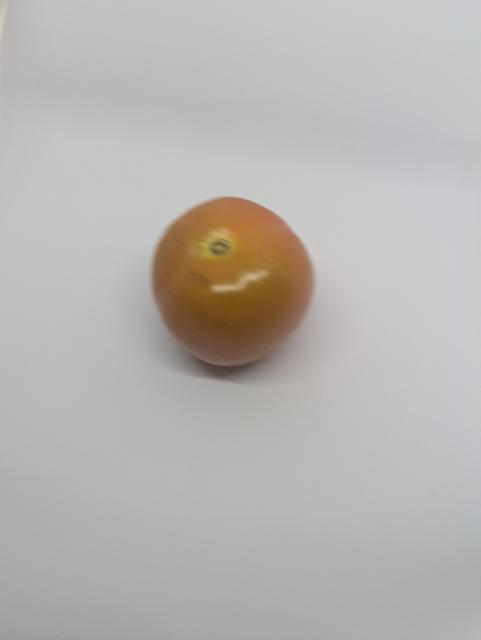turning: (145, 186, 326, 375)
